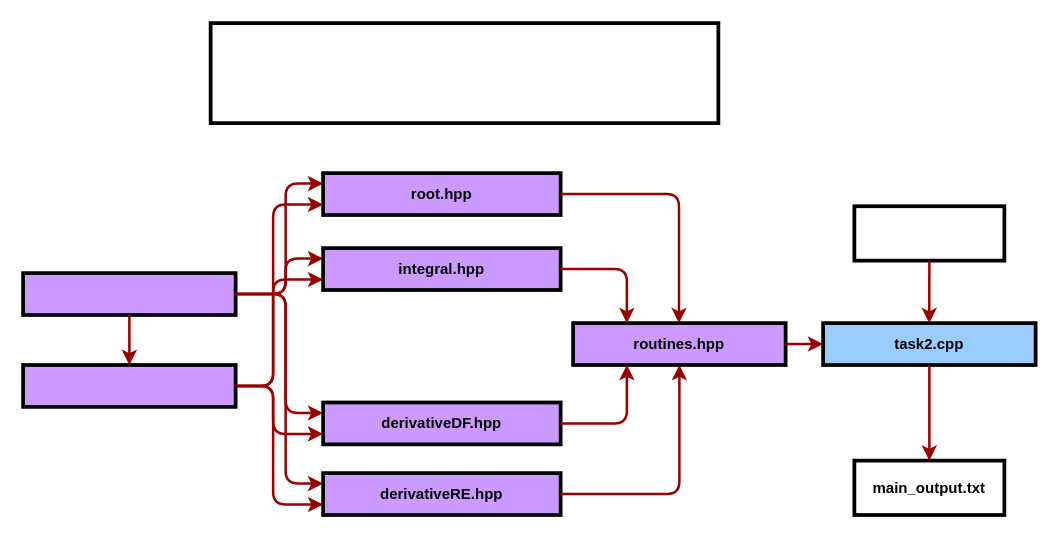
This 1059x539 diagram has some shape labels left out. The shapes that lost their labels are listed below. From the top down, each one's box as (x1, y1, x2, y2) in pixels, then its label:
(208, 21, 720, 124): Arquitetura Task2(P2)
(852, 204, 1006, 262): main_input.txt
(21, 271, 237, 316): subRoutines.hpp
(21, 362, 237, 408): targetFunction.hpp
